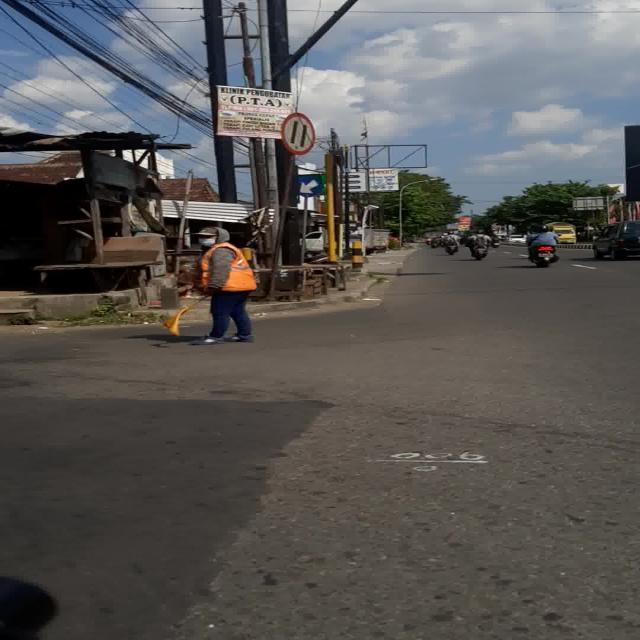Larangan Muatan - 10 ton: (280, 112, 316, 156)
